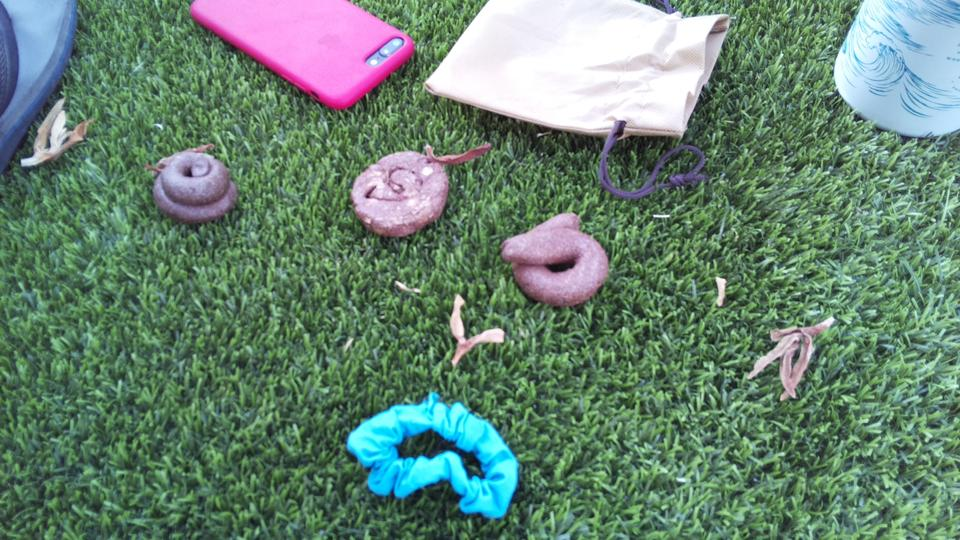poop: (496, 209, 613, 312), (346, 150, 453, 242), (141, 150, 242, 226)
